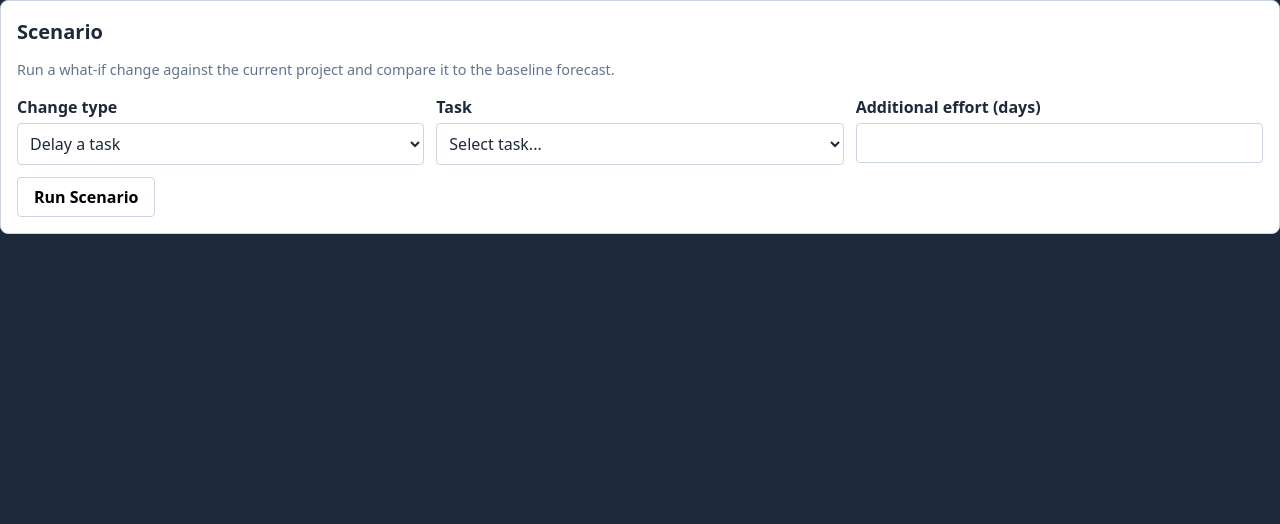
Test: ScenarioPanel › runs a delay scenario and shows a baseline vs. projected comparison
Step 1. Select "t2 — Build feature" in the dropdown with test id "scenario-task-select" → (640, 144), box [436,123,844,165]
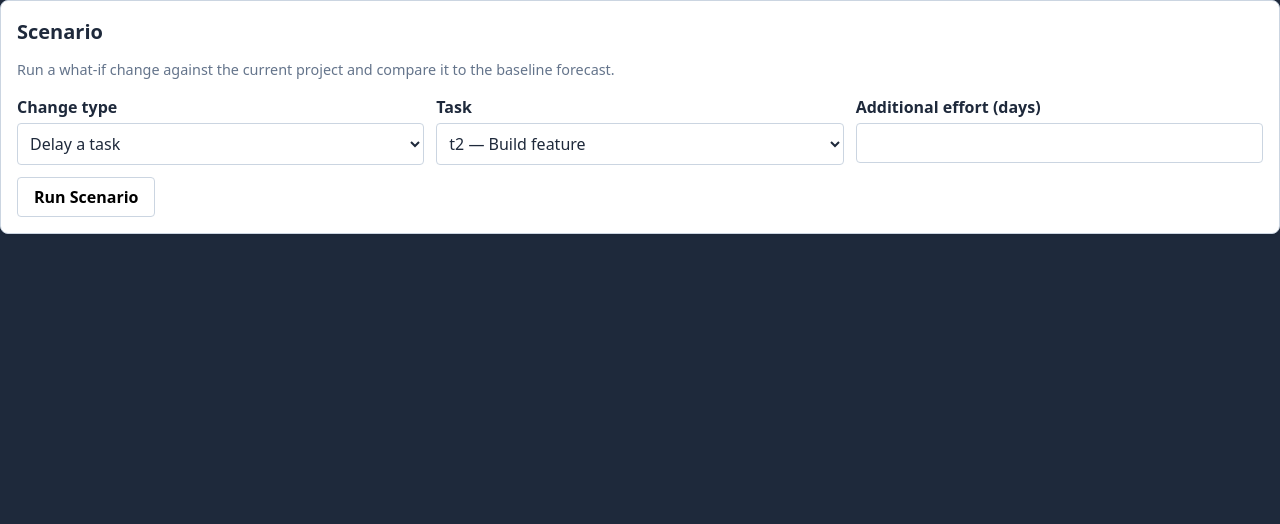
Step 2. Type "10" into the number field with test id "scenario-amount-input" → (1059, 143), box [856,123,1263,163]
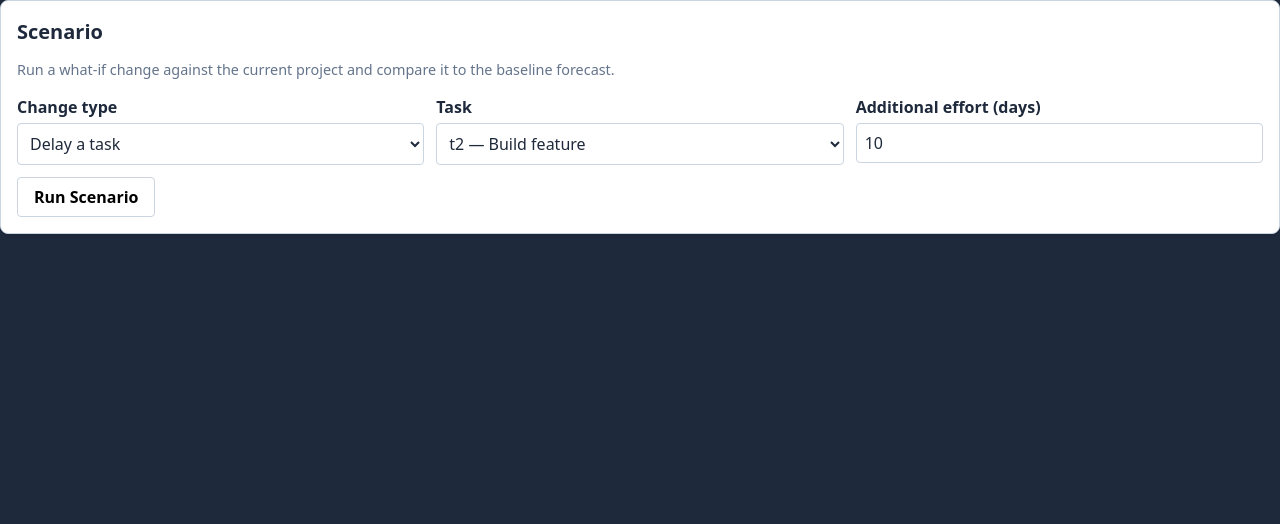
Step 3. Click the button with test id "run-scenario-button" → click(86, 197), box [17,177,156,217]
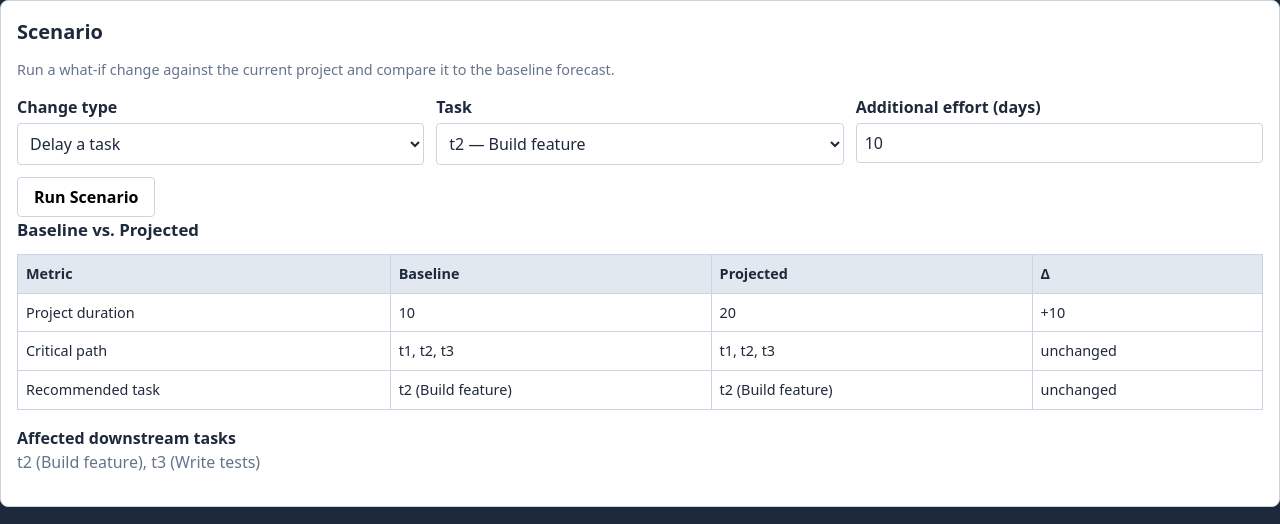
Now the element with test id "scenario-comparison" is shown, box [17,217,1263,474]
Now the cell with test id "duration-delta" reads "+10", box [1041,303,1065,322]
